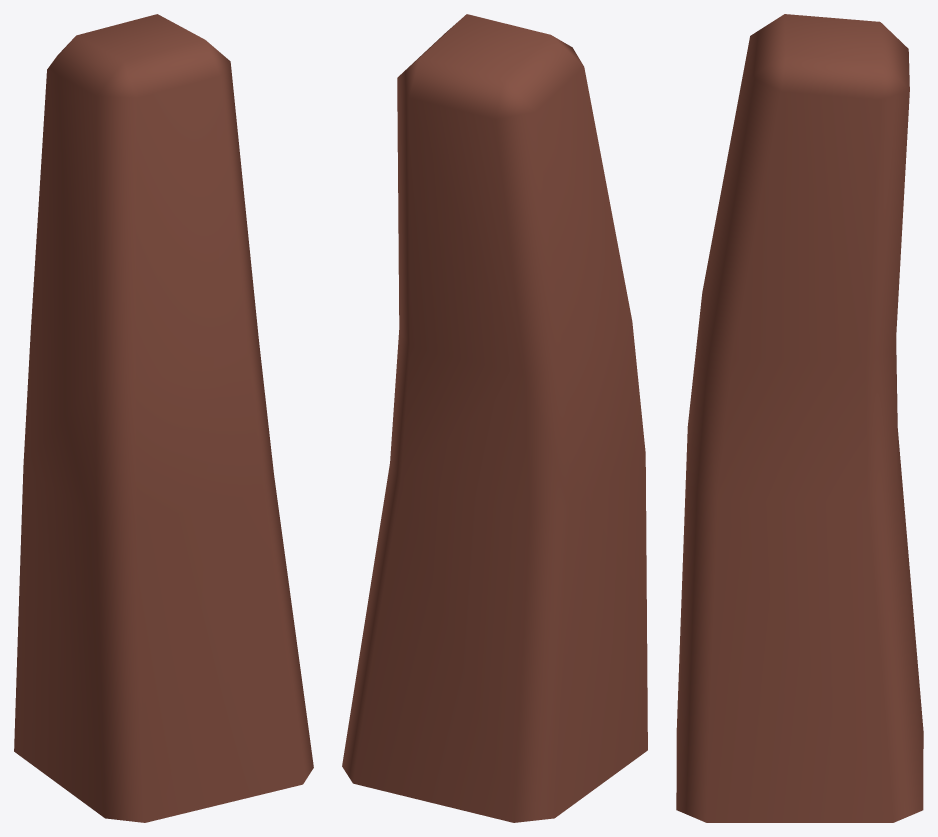
The model's file is fence_pillar_001.glb.
3 renders of one model, left to right at view 1: azimuth 30°, elevation 25°; view 2: azimuth 150°, elevation 25°; view 3: azimuth 270°, elevation 25°, orthographic. The views are drawn at different scales.
Visible parts, largest first — view 1: fence_pillar_001; view 2: fence_pillar_001; view 3: fence_pillar_001.
Boxes of the visible parts, bbox=[...] form: fence_pillar_001: bbox=[14, 14, 313, 822]; fence_pillar_001: bbox=[342, 14, 647, 822]; fence_pillar_001: bbox=[676, 14, 923, 822].
Bounding box in the file's own units: 0.3814 × 1.23 × 0.3757.
1 material, 1 textured.
